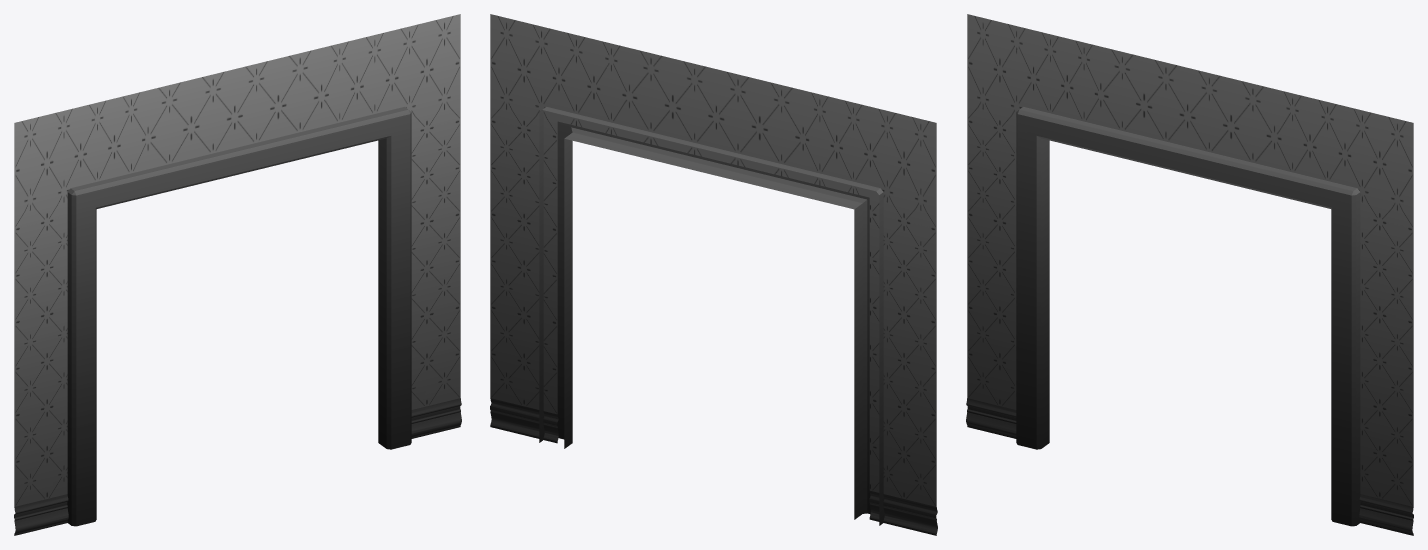
Rendered from Wall_03_Door_Double.fbx.
3 renders of one model, left to right at view 1: azimuth 30°, elevation 25°; view 2: azimuth 150°, elevation 25°; view 3: azimuth 330°, elevation 25°, orthographic.
Visible parts, largest first — view 1: Wall_01_Door2; view 2: Wall_01_Door2; view 3: Wall_01_Door2.
Boxes of the visible parts, x1,y1,x2,y2 form: Wall_01_Door2: (14,14,461,535); Wall_01_Door2: (490,14,937,535); Wall_01_Door2: (966,14,1413,535).
Bounding box in the file's own units: 3 × 2.65 × 0.1165.
